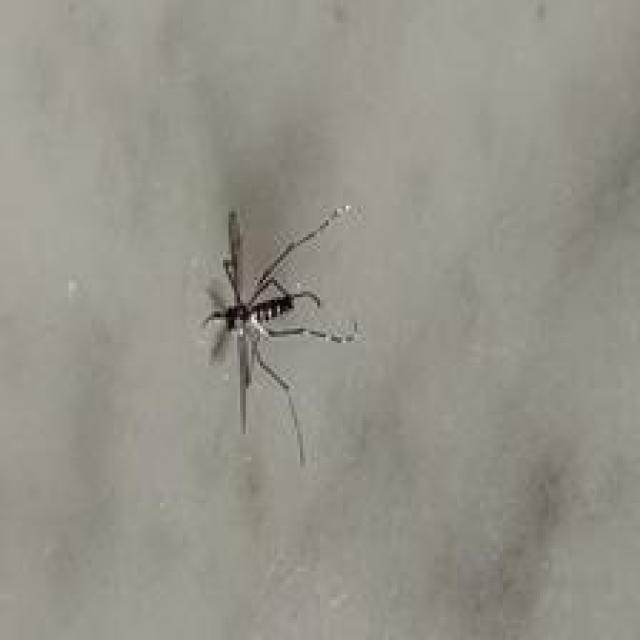Aedes albopictus: (198, 203, 362, 466)
